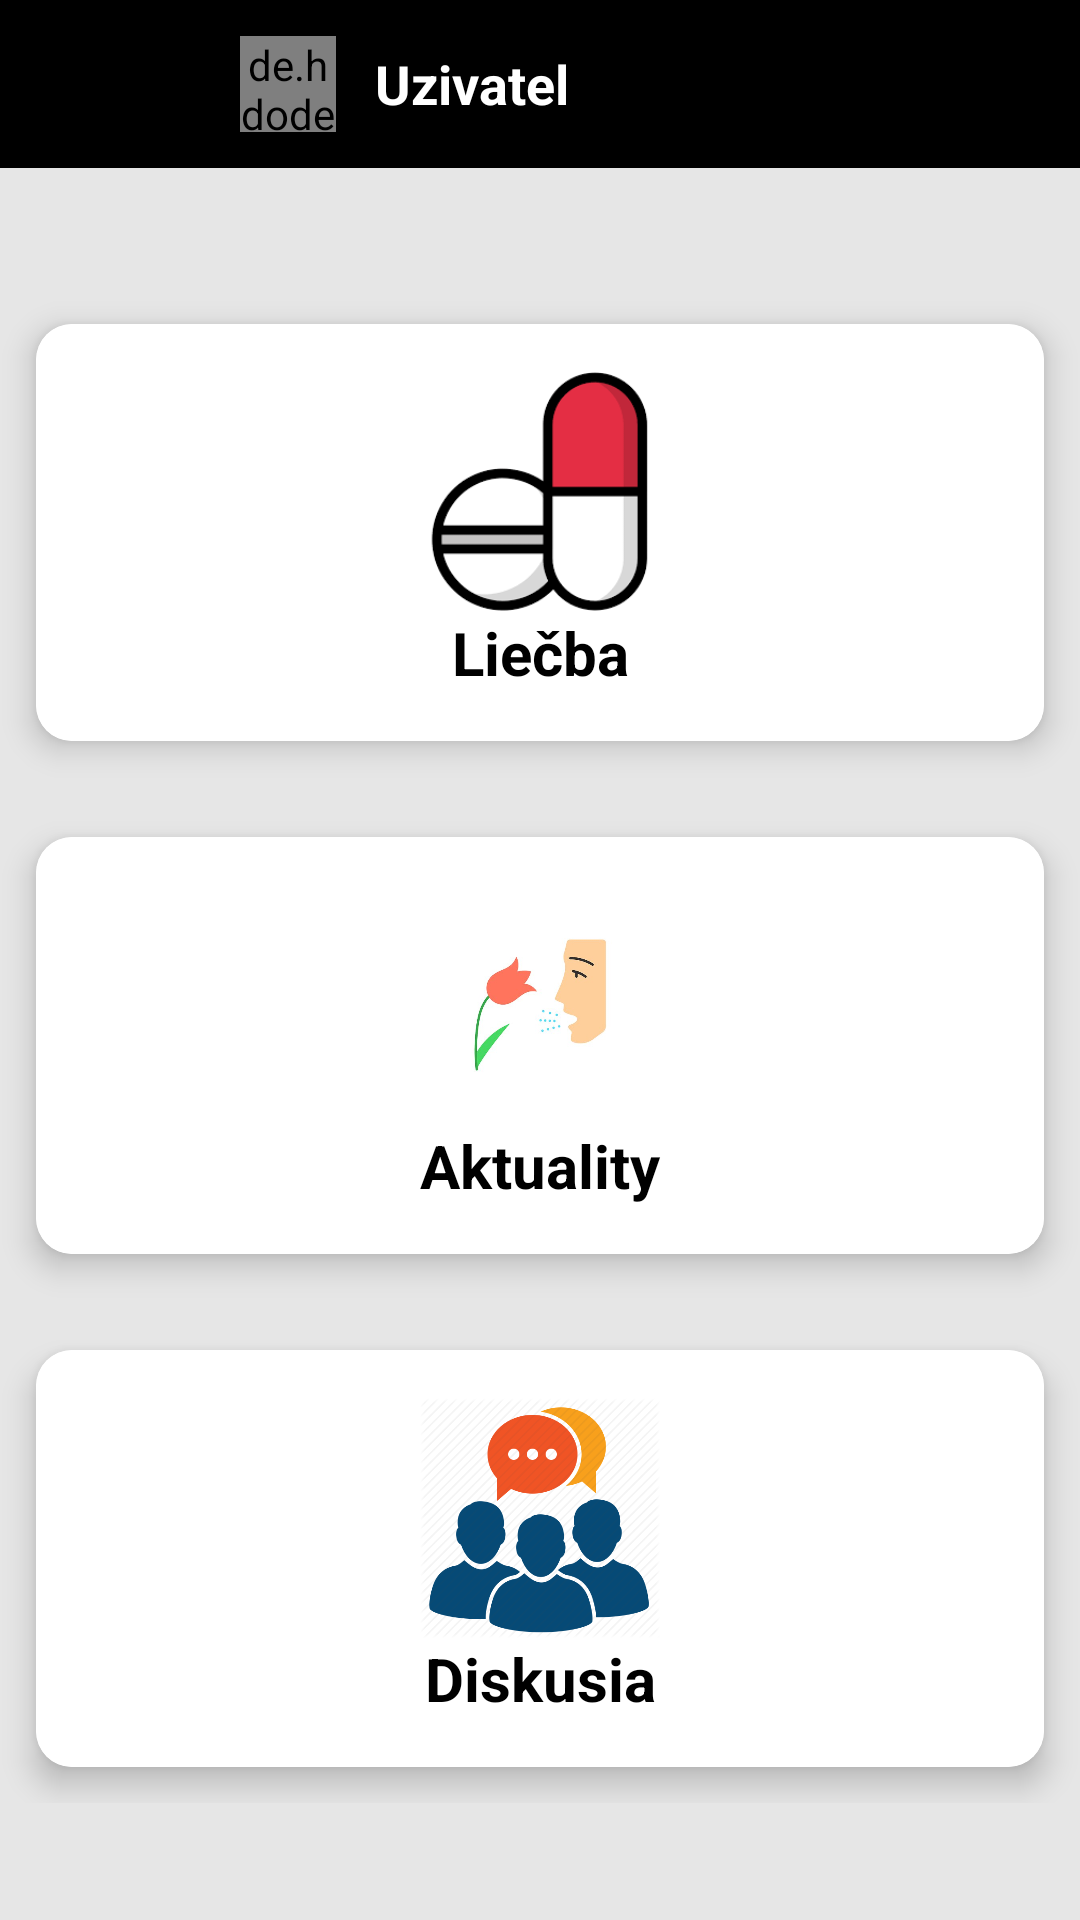

Point at icon controls on the screen. Image size 1080x1920, points as point (x, y).
allergy: point (540, 1005)
